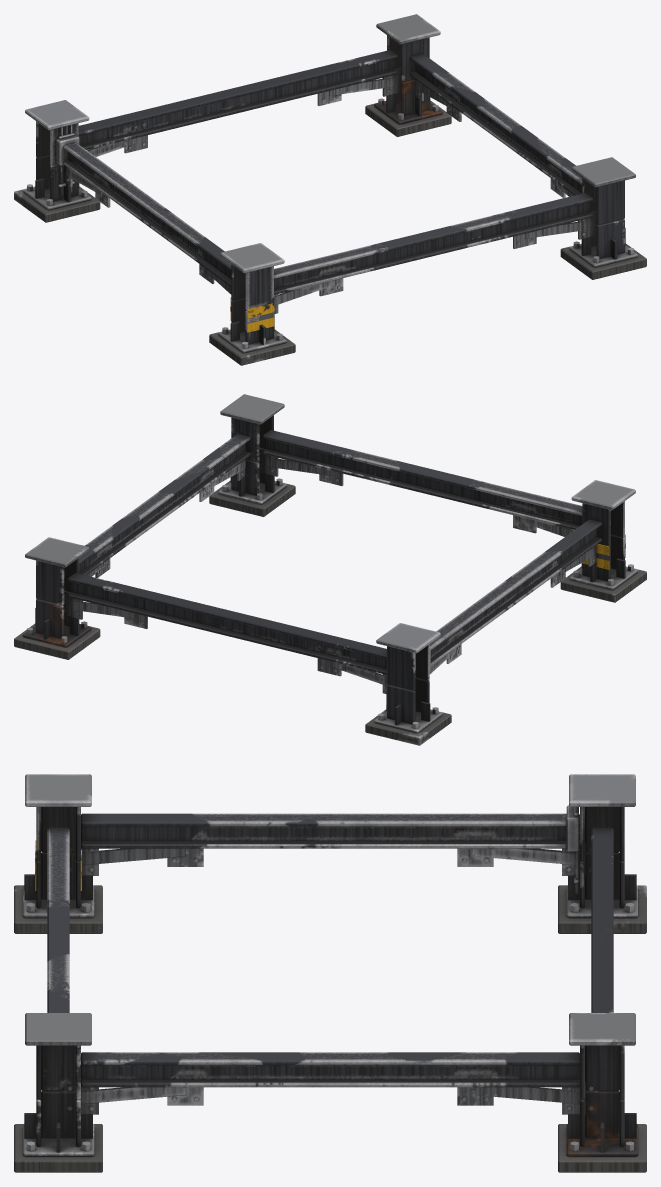
Rendered from nodexeus-set-legs-1.glb.
3 views of the same model, one above another, from view 1: azimuth 30°, elevation 25°; view 2: azimuth 150°, elevation 25°; view 3: azimuth 270°, elevation 25° (orthographic). The views are drawn at different scales.
Parts seen in each view (by area): view 1: set-legs-1; view 2: set-legs-1; view 3: set-legs-1.
Boxes of the visible parts, <box> form: set-legs-1: <box>14,14,646,365</box>; set-legs-1: <box>14,394,646,745</box>; set-legs-1: <box>14,774,646,1172</box>.
Bounding box in the file's own units: 6.25 × 1.35 × 6.05.
1 material, 1 textured.
